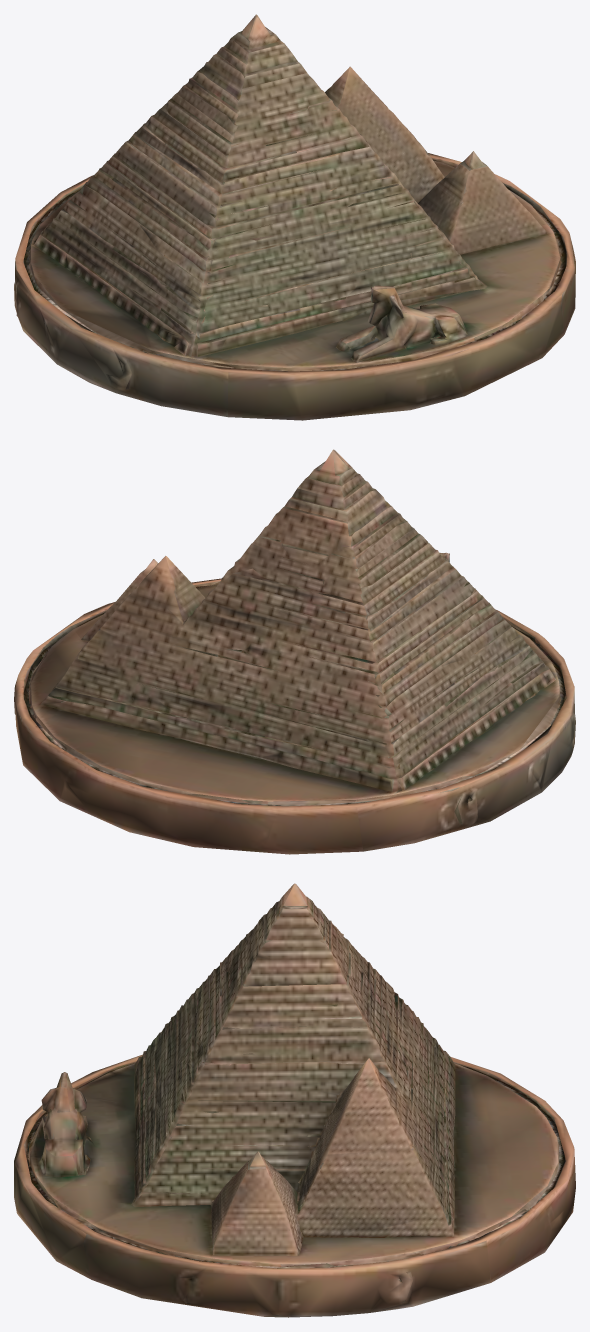
Rendered from pyramid_giza_aurora.glb.
3 views of the same model, one above another, from view 1: azimuth 30°, elevation 25°; view 2: azimuth 150°, elevation 25°; view 3: azimuth 270°, elevation 25° (orthographic).
Visible parts, largest first — view 1: Mesh_0; view 2: Mesh_0; view 3: Mesh_0.
Boxes of the visible parts, x1,y1,x2,y2 form: Mesh_0: [14, 14, 575, 420]; Mesh_0: [14, 449, 575, 854]; Mesh_0: [14, 883, 575, 1317].
Bounding box in the file's own units: 1.91 × 1.12 × 1.91.
Materials: 1 (1 with a texture image).
